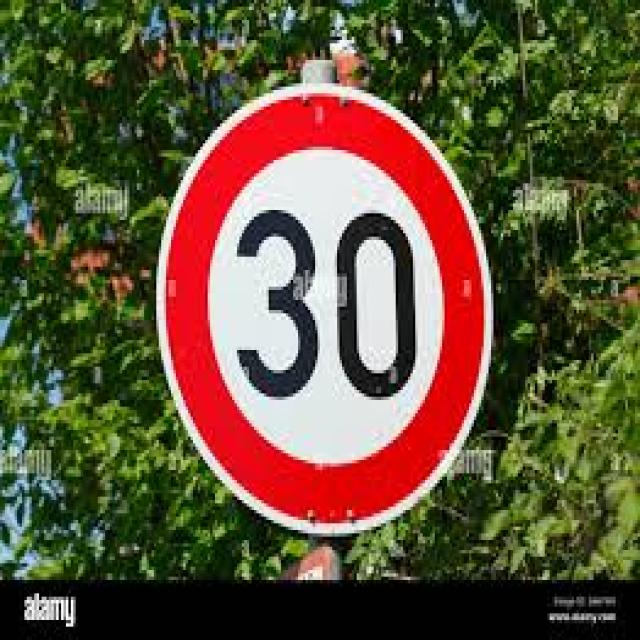speed_30: (153, 82, 495, 534), (494, 534, 495, 534)
